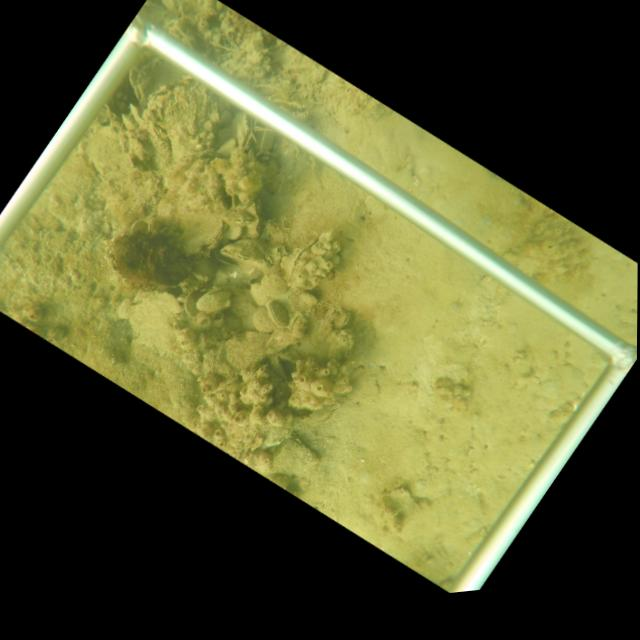Oyster-Closed: (217, 236, 275, 274), (270, 436, 321, 478), (124, 53, 166, 104), (178, 217, 225, 257), (283, 236, 320, 282), (302, 396, 354, 425), (194, 285, 233, 314), (266, 295, 290, 332), (232, 113, 254, 152), (249, 305, 275, 333), (221, 207, 257, 227), (247, 199, 260, 236), (298, 291, 319, 309), (333, 309, 351, 328), (145, 215, 159, 233)
Oyster-Indeterminate: (145, 76, 220, 169), (222, 328, 270, 367), (181, 288, 202, 318)
